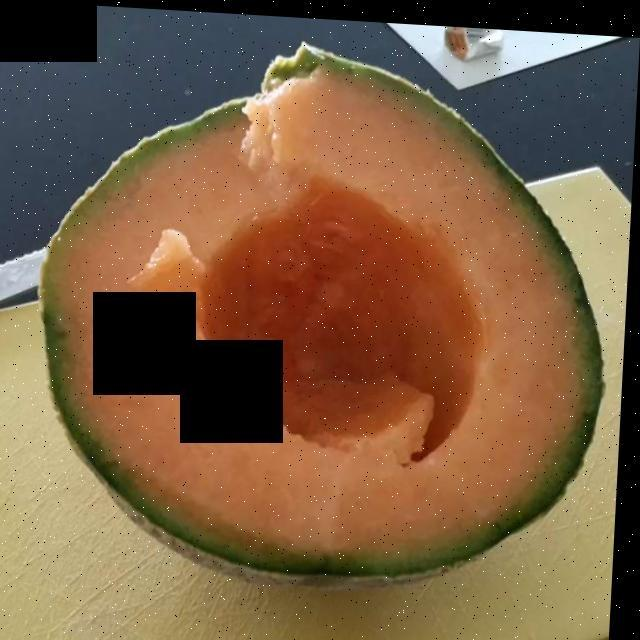melon: (50, 48, 583, 565)
